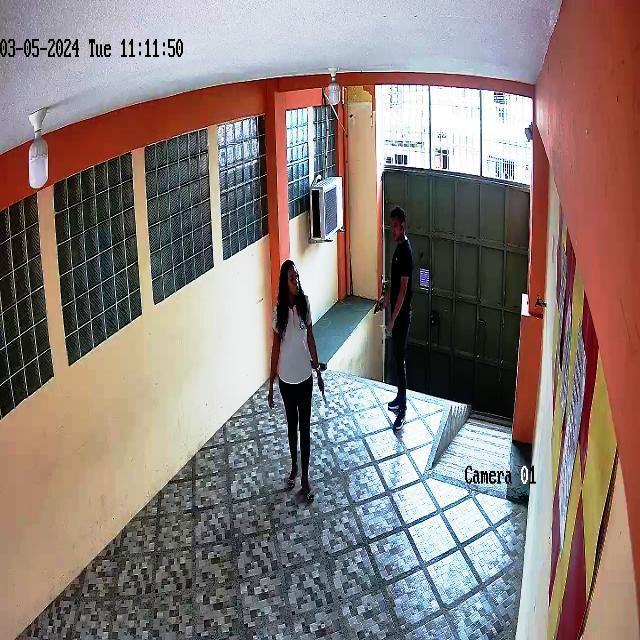Gun: (364, 285, 388, 321)
Knife: (311, 373, 336, 412)
